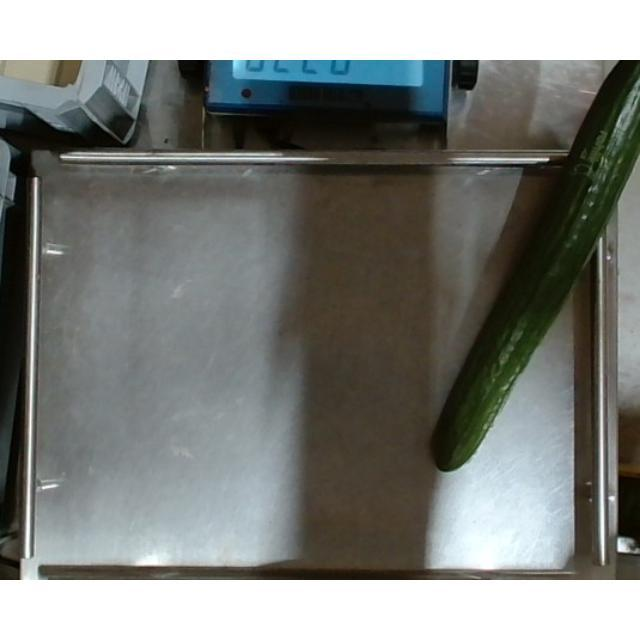cucumber: (428, 63, 640, 471)
